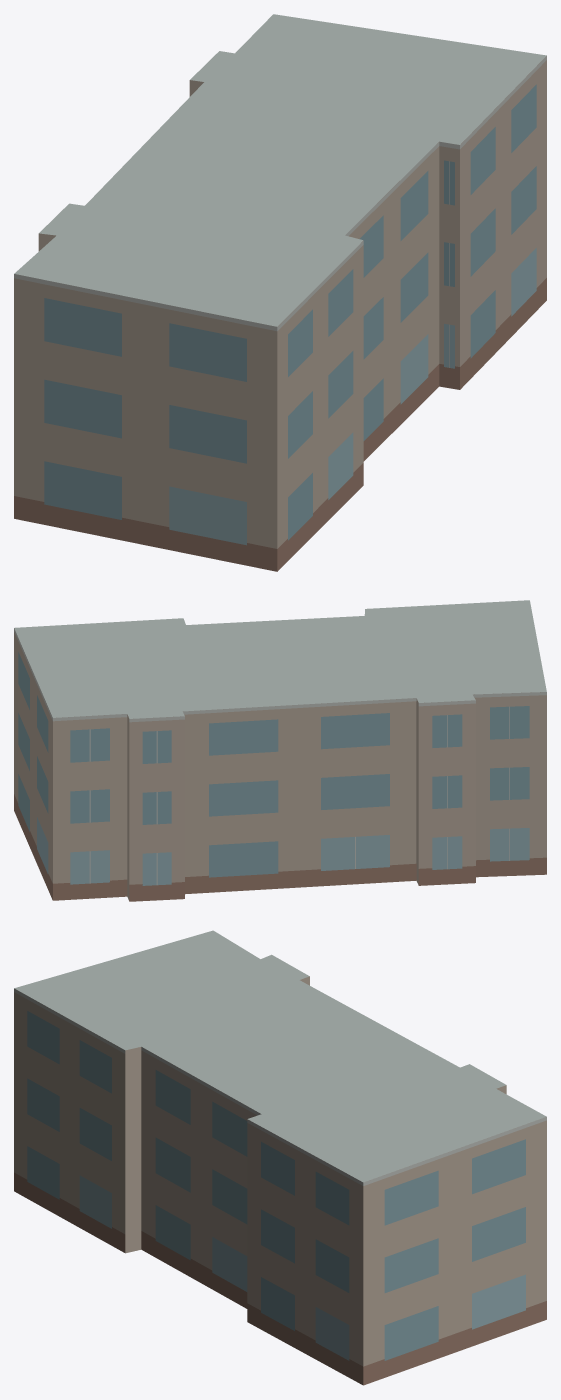
File: survey-upis-32850640.glb
3 renders of one model, top to bottom at view 1: azimuth 30°, elevation 25°; view 2: azimuth 150°, elevation 25°; view 3: azimuth 270°, elevation 25°, orthographic. The views are drawn at different scales.
Parts seen in each view (by area): view 1: survey-upis-32850640.tmp; view 2: survey-upis-32850640.tmp; view 3: survey-upis-32850640.tmp.
Part boxes in pixels (x1,y1,x2,y2): survey-upis-32850640.tmp: (14, 14, 546, 571); survey-upis-32850640.tmp: (14, 600, 546, 901); survey-upis-32850640.tmp: (14, 930, 546, 1385).
Bounding box in the file's own units: 35.97 × 13.5 × 32.13.
